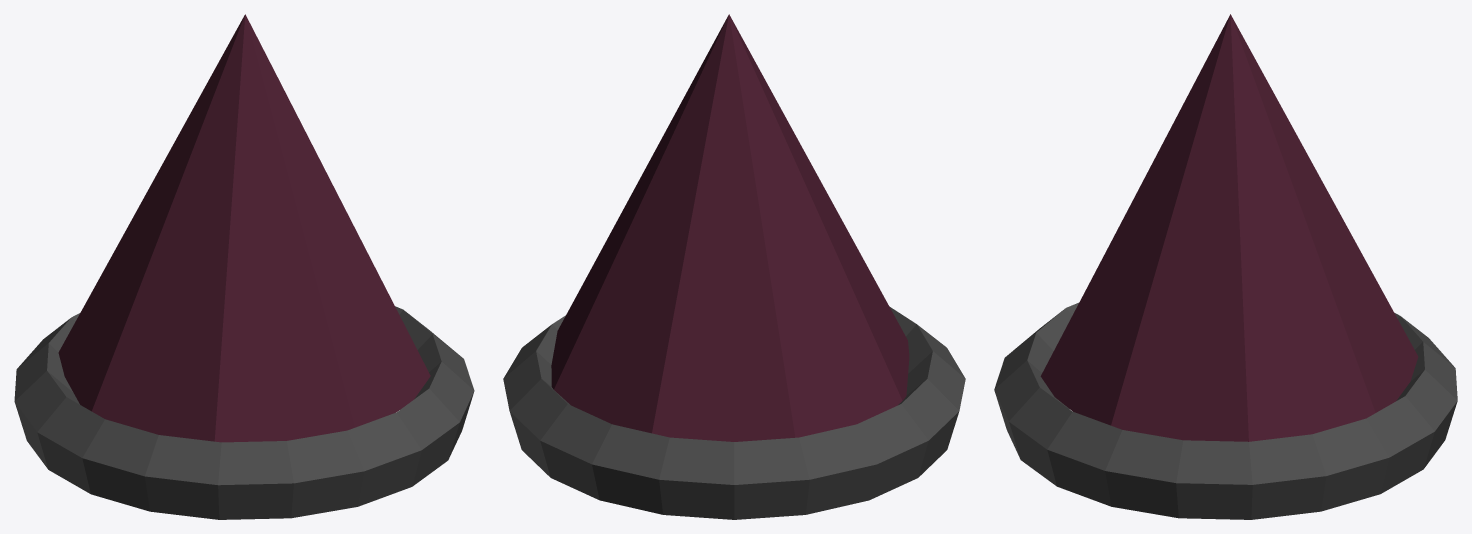
Rendered from Pincho0.1.fbx.
3 renders of one model, left to right at view 1: azimuth 30°, elevation 25°; view 2: azimuth 150°, elevation 25°; view 3: azimuth 270°, elevation 25°, orthographic.
Visible parts, largest first — view 1: Rosca; view 2: Rosca; view 3: Rosca.
Part boxes in pixels (x1=…): Rosca: x1=14, y1=14, x2=474, y2=519; Rosca: x1=503, y1=14, x2=965, y2=519; Rosca: x1=994, y1=14, x2=1457, y2=519.
Size of the model in its own units: 282 by 282 by 282.
